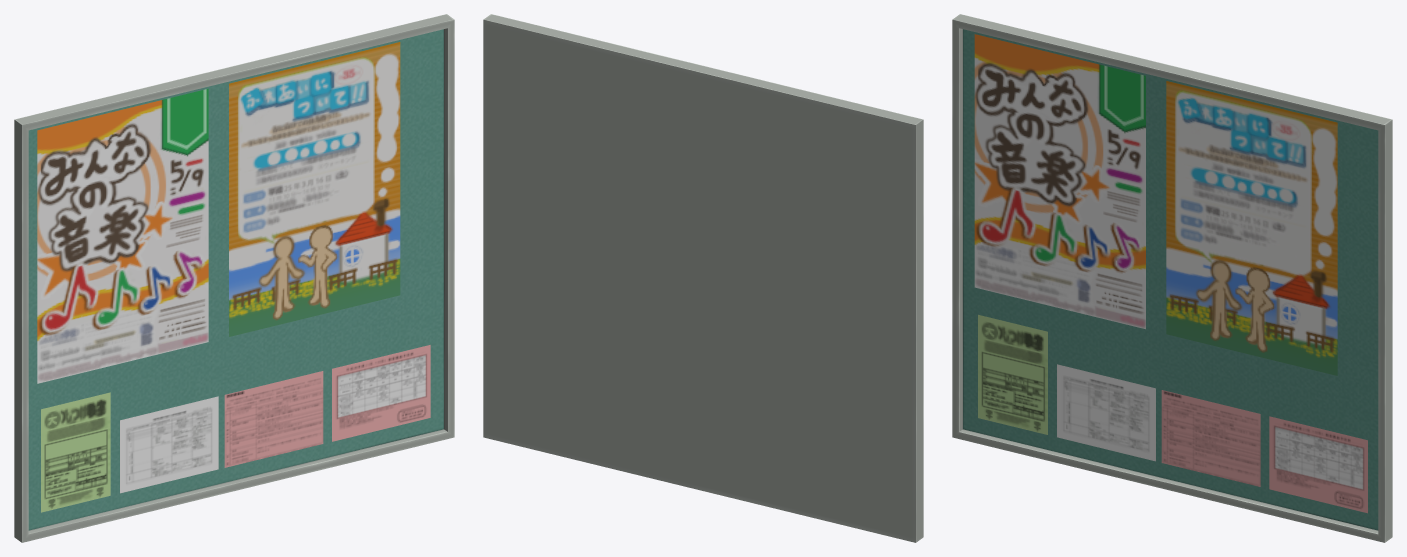
Rendered from SHW_Board_01_03.fbx.
The picture shows the model from 3 angles, left to right: view 1: azimuth 30°, elevation 25°; view 2: azimuth 150°, elevation 25°; view 3: azimuth 330°, elevation 25°; orthographic projection.
Visible parts, largest first — view 1: board01_01, paperB2_01, paperB2_02, paperA4_04, paperA4_02, paperA4_03, paperA4_01; view 2: board01_01; view 3: board01_01, paperB2_01, paperB2_02, paperA4_04, paperA4_02, paperA4_03, paperA4_01.
Part boxes in pixels (left/top/right/bottom): board01_01: left=14, top=14, right=454, bottom=542; paperB2_01: left=37, top=88, right=208, bottom=383; paperB2_02: left=229, top=42, right=400, bottom=336; paperA4_04: left=224, top=371, right=323, bottom=467; paperA4_02: left=120, top=396, right=218, bottom=493; paperA4_03: left=332, top=345, right=430, bottom=441; paperA4_01: left=41, top=392, right=110, bottom=512; board01_01: left=483, top=14, right=923, bottom=542; board01_01: left=952, top=14, right=1392, bottom=542; paperB2_01: left=974, top=34, right=1145, bottom=329; paperB2_02: left=1166, top=81, right=1337, bottom=375; paperA4_04: left=1161, top=390, right=1260, bottom=486; paperA4_02: left=1057, top=364, right=1155, bottom=461; paperA4_03: left=1269, top=416, right=1367, bottom=513; paperA4_01: left=978, top=314, right=1047, bottom=434.
Bounding box in the file's own units: 130 × 120 × 4.
